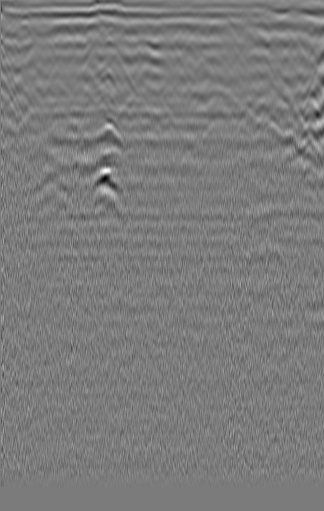가스: (84, 168, 126, 198)
상수: (13, 16, 37, 44)
우수: (132, 31, 161, 60)
